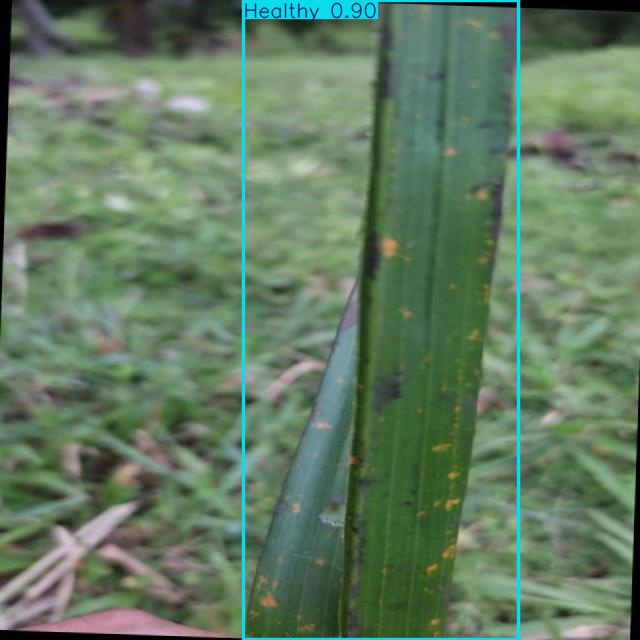Healthy: (244, 0, 519, 640)
